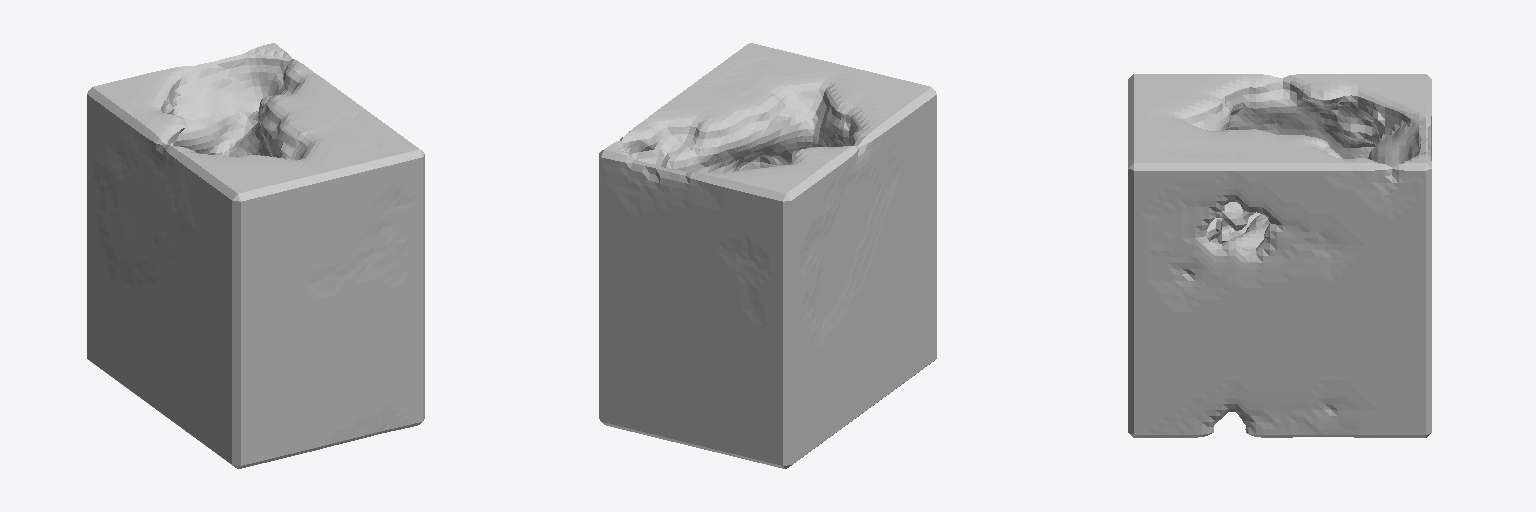
3 renders of one model, left to right at view 1: azimuth 30°, elevation 25°; view 2: azimuth 150°, elevation 25°; view 3: azimuth 270°, elevation 25°, orthographic.
Visible parts, largest first — view 1: Liquid_Domain; view 2: Liquid_Domain; view 3: Liquid_Domain.
Boxes of the visible parts, <box> form: Liquid_Domain: <box>87,43,424,468</box>; Liquid_Domain: <box>599,43,936,468</box>; Liquid_Domain: <box>1128,74,1431,437</box>.
Bounding box in the file's own units: 79.09 × 108 × 108.